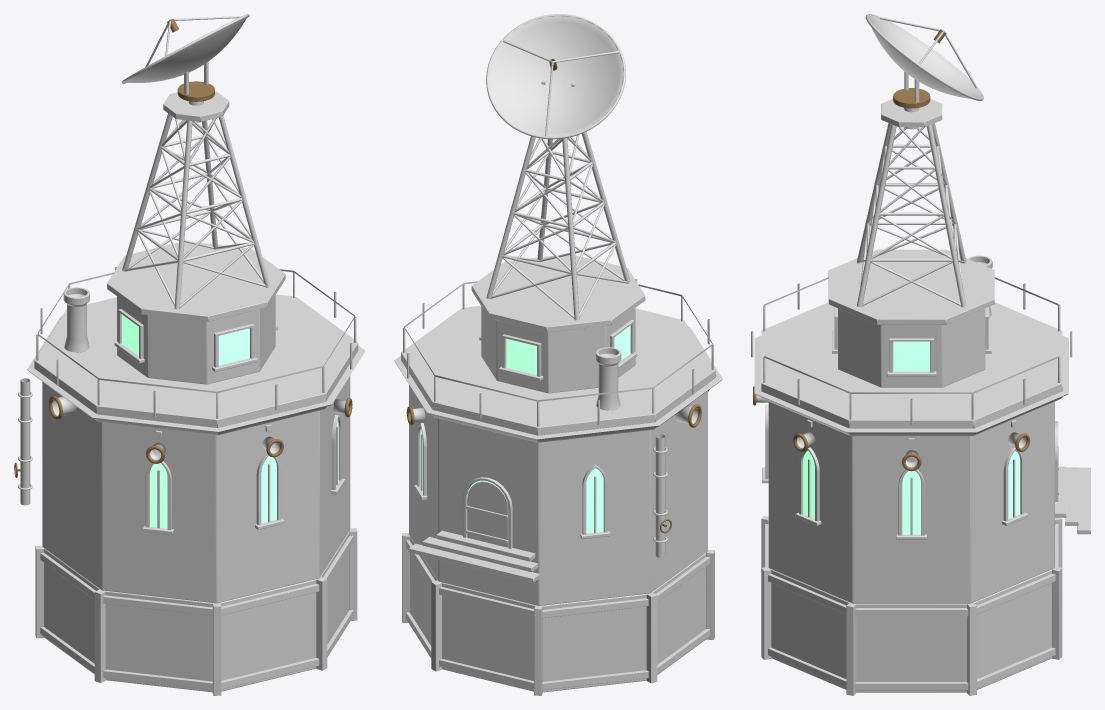
Rendered from traffic.glb.
3 renders of one model, left to right at view 1: azimuth 30°, elevation 25°; view 2: azimuth 150°, elevation 25°; view 3: azimuth 270°, elevation 25°, orthographic. The views are drawn at different scales.
Parts seen in each view (by area): view 1: ground__stone_decay, crown__iron_decay, basement__iron_decay, crown__stone_decay, ground__iron_decay, ground__trim_brass, crown__brass_pipe, ground__brass_pipe, ground__window_glass, crown__window_glass, crown__soot_iron, ground__bronze (+1 smaller); view 2: ground__stone_decay, crown__iron_decay, basement__iron_decay, crown__brass_pipe, crown__stone_decay, ground__iron_decay, ground__trim_brass, ground__brass_pipe, crown__soot_iron, crown__window_glass, ground__window_glass; view 3: ground__stone_decay, crown__iron_decay, basement__iron_decay, crown__stone_decay, crown__brass_pipe, ground__trim_brass, ground__iron_decay, ground__window_glass, crown__window_glass, crown__bronze, ground__bronze, ground__brass_pipe.
Part boxes in pixels (x1,y1,x2,y2): ground__stone_decay: [42, 375, 350, 603]; crown__iron_decay: [34, 16, 358, 427]; basement__iron_decay: [35, 528, 357, 695]; crown__stone_decay: [117, 295, 275, 384]; ground__iron_decay: [142, 415, 344, 534]; ground__trim_brass: [27, 316, 365, 435]; crown__brass_pipe: [121, 14, 249, 83]; ground__brass_pipe: [18, 378, 348, 505]; ground__window_glass: [150, 420, 338, 528]; crown__window_glass: [122, 314, 249, 365]; crown__soot_iron: [63, 287, 89, 352]; ground__bronze: [14, 396, 352, 477]; ground__stone_decay: [409, 385, 707, 605]; crown__iron_decay: [401, 40, 715, 435]; basement__iron_decay: [402, 533, 714, 695]; crown__brass_pipe: [486, 14, 625, 139]; crown__stone_decay: [481, 306, 635, 393]; ground__iron_decay: [414, 423, 610, 547]; ground__trim_brass: [394, 327, 722, 548]; ground__brass_pipe: [410, 405, 698, 557]; crown__soot_iron: [595, 347, 621, 410]; crown__window_glass: [506, 325, 630, 374]; ground__window_glass: [420, 428, 603, 533]; ground__stone_decay: [768, 401, 1090, 603]; crown__iron_decay: [751, 17, 1072, 428]; basement__iron_decay: [761, 516, 1062, 695]; crown__stone_decay: [838, 308, 985, 387]; crown__brass_pipe: [865, 14, 983, 100]; ground__trim_brass: [754, 335, 1068, 501]; ground__iron_decay: [762, 404, 1027, 539]; ground__window_glass: [803, 451, 1020, 534]; crown__window_glass: [893, 341, 929, 371]; crown__bronze: [893, 29, 946, 108]; ground__bronze: [753, 386, 1030, 471]; ground__brass_pipe: [756, 395, 1026, 467].
Size of the model in its own units: 10.8 by 22.04 by 11.07.
